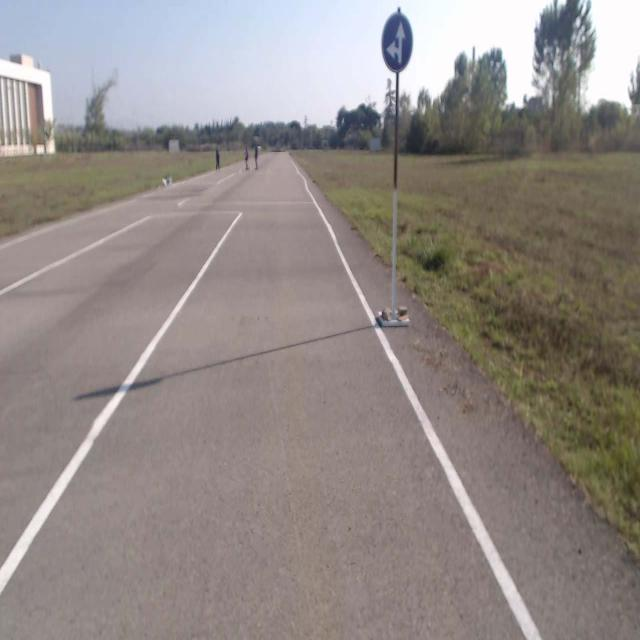ilerisol: (383, 12, 412, 70)
